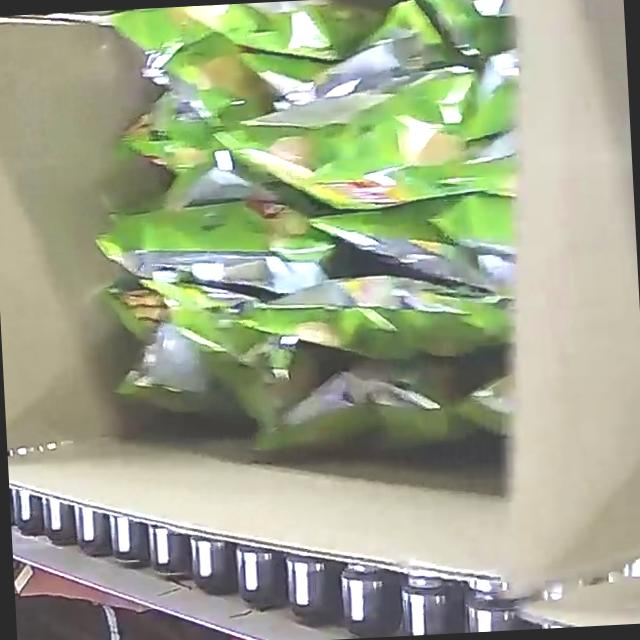yogurt: (77, 0, 538, 464)
